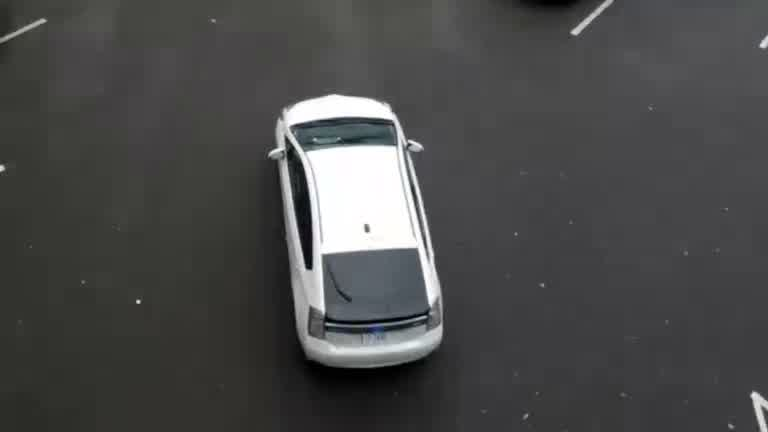car: (232, 73, 497, 376)
